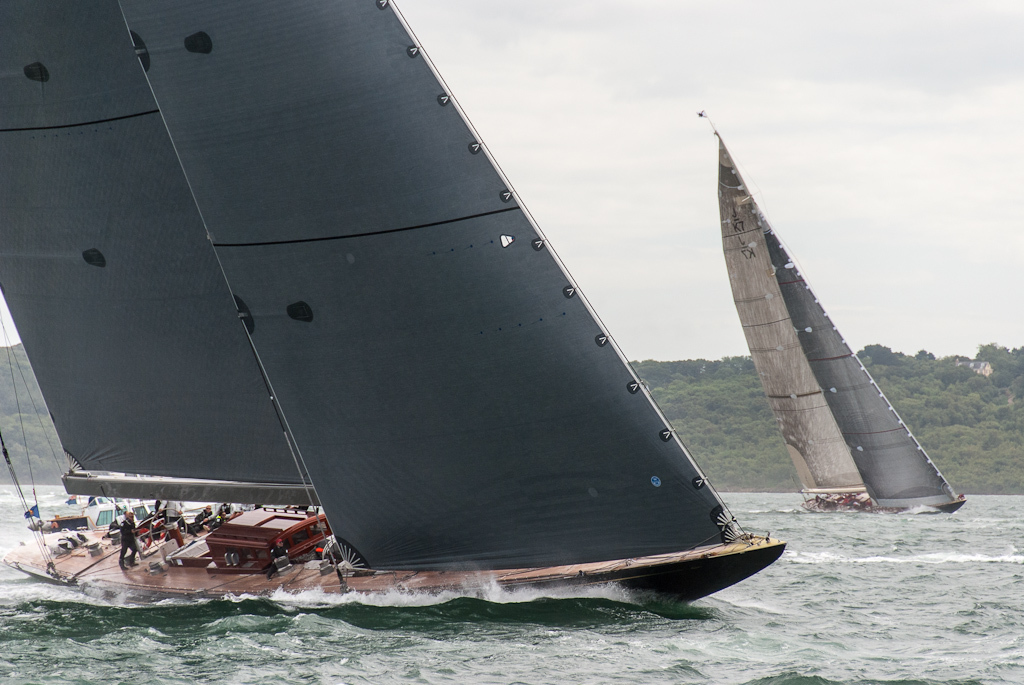boat: (1, 1, 797, 645), (677, 94, 976, 538)
